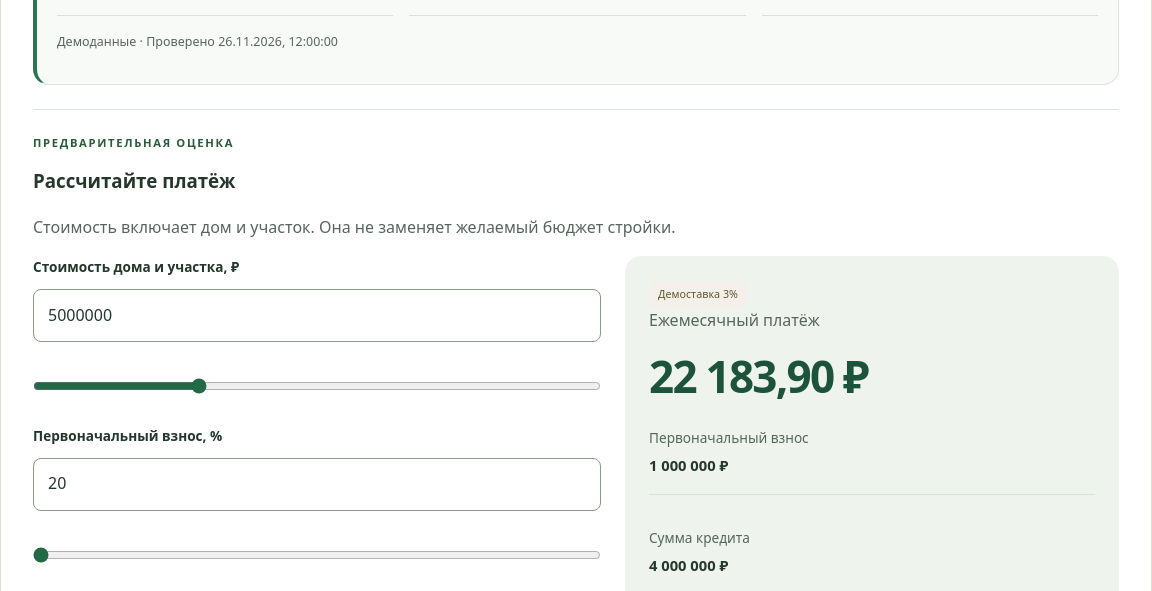
Test case: Участок и предварительная ипотека › показывает ошибку поля от сервера и сохраняет введённую стоимость
The width and height of the screenshot is (1152, 591).
(page scrolled)
Replace the text in the number field labelled "Стоимость дома и участка, ₽" with "6000000" at (317, 315), box [33,289,601,342]
(page scrolled)
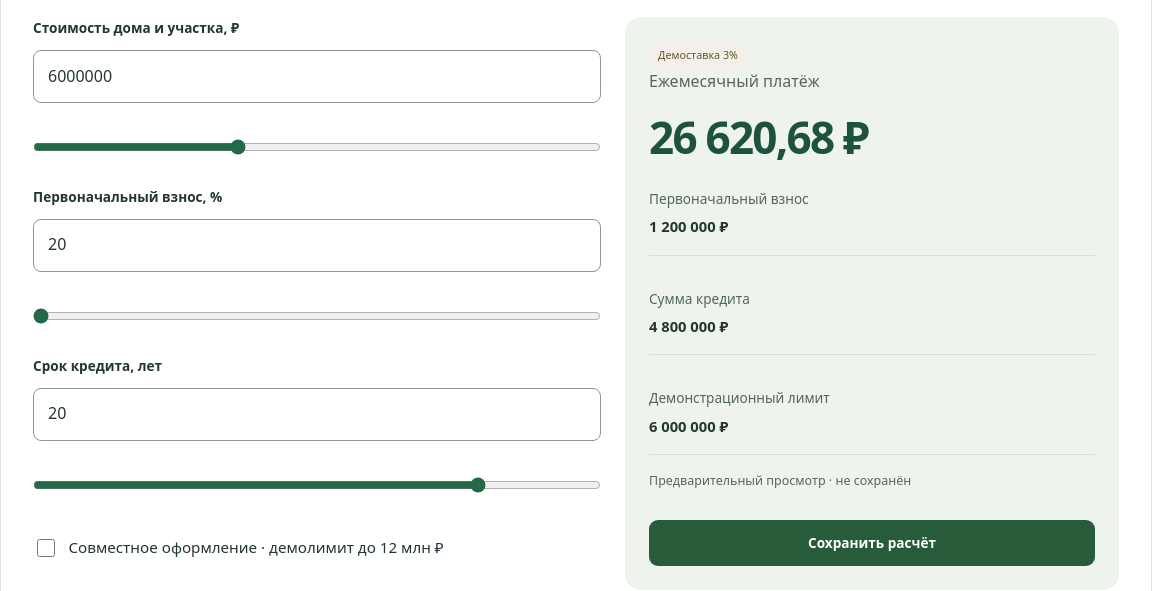
Click the button "Сохранить расчёт" at (872, 543), box [649,520,1095,566]
(page scrolled)
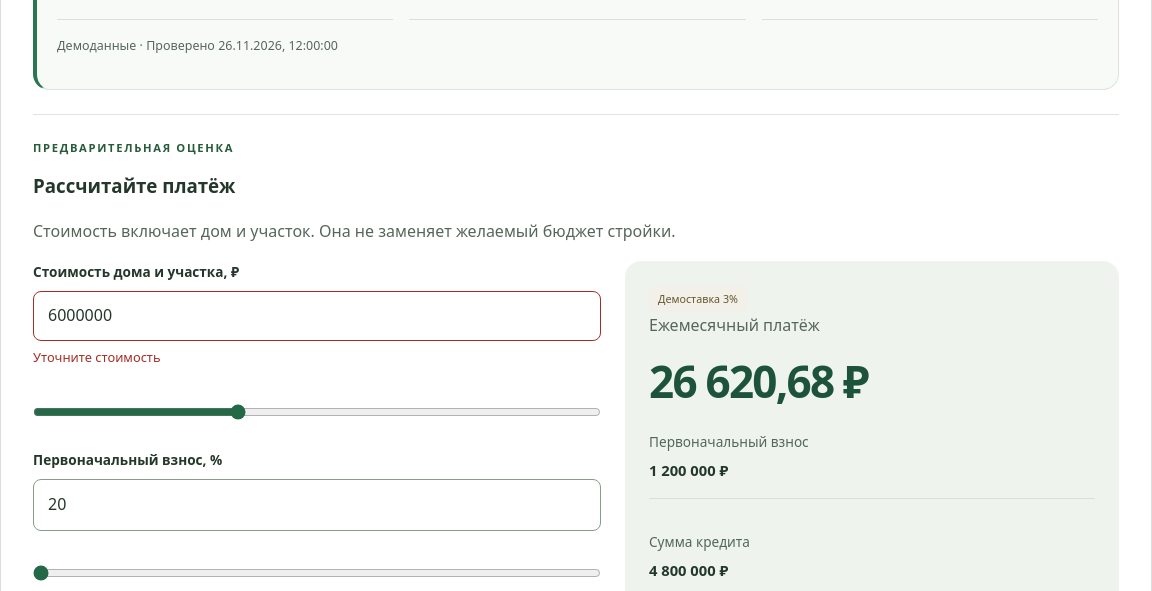
Expected: the text "Уточните стоимость" is shown, [33,348,160,366]
